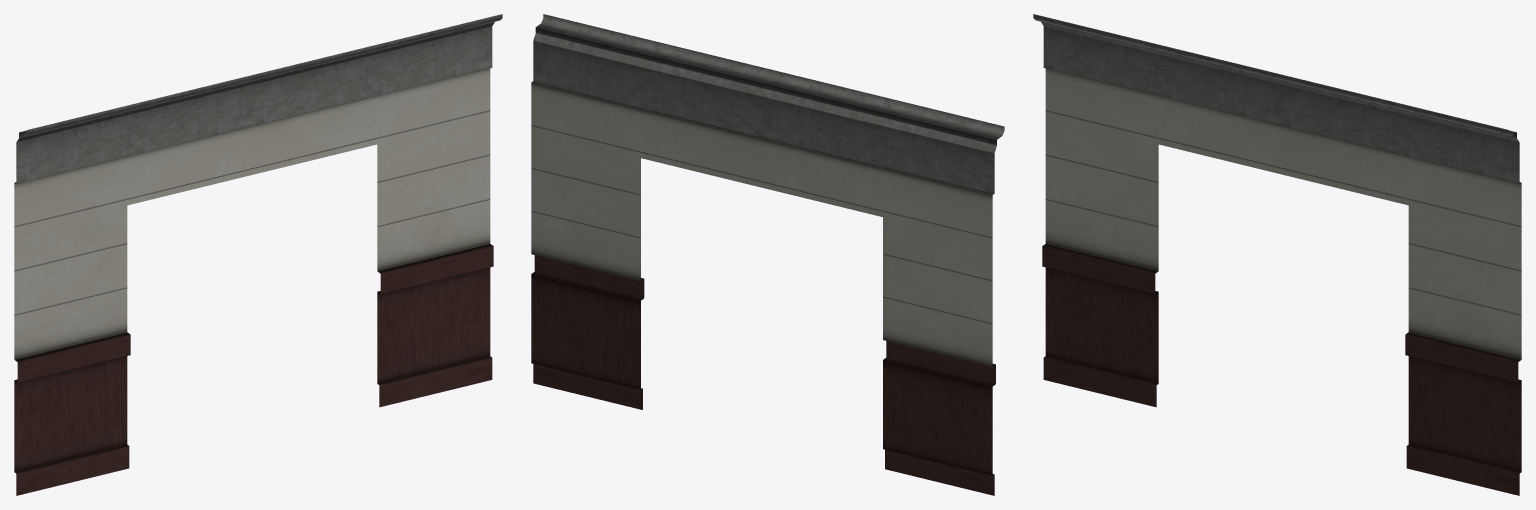
The model's file is Wall 6 Door F.fbx.
3 views of the same model, side by side, from view 1: azimuth 30°, elevation 25°; view 2: azimuth 150°, elevation 25°; view 3: azimuth 330°, elevation 25° (orthographic). The views are drawn at different scales.
Visible parts, largest first — view 1: Wall_6_Door_F; view 2: Wall_6_Door_F; view 3: Wall_6_Door_F.
Boxes of the visible parts, bbox=[...] form: Wall_6_Door_F: bbox=[14, 14, 502, 495]; Wall_6_Door_F: bbox=[531, 14, 1004, 495]; Wall_6_Door_F: bbox=[1033, 14, 1521, 495].
Bounding box in the file's own units: 400 × 300 × 18.12.
